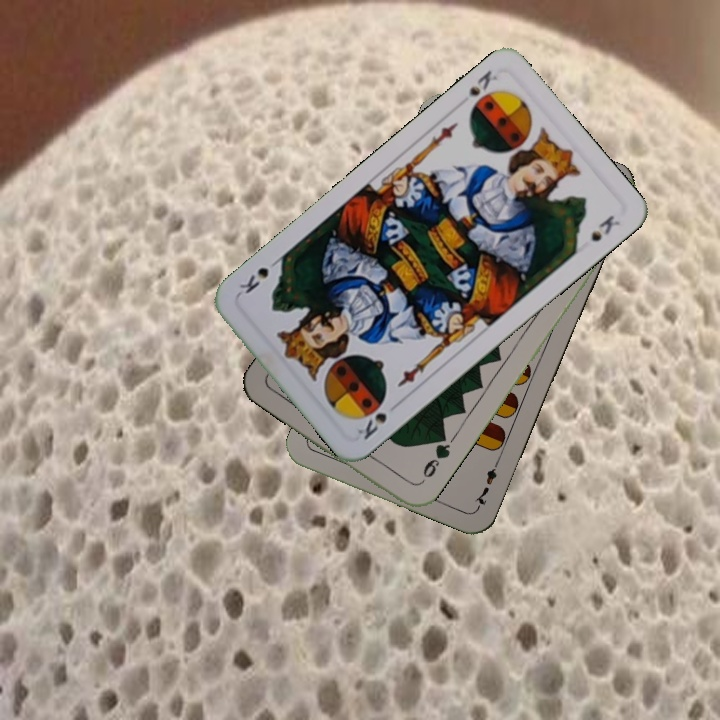E7: (470, 454, 503, 510)
G9: (415, 433, 453, 487)
SK: (353, 408, 390, 443), (465, 66, 500, 99)
